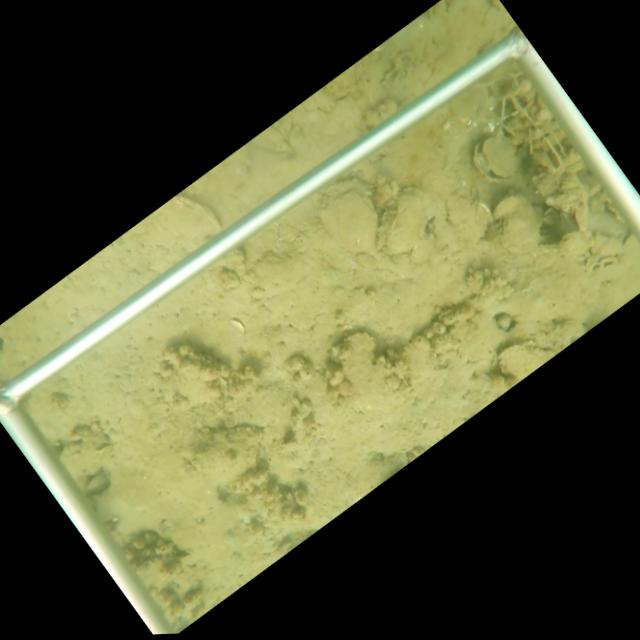Oyster-Closed: (492, 192, 544, 255), (172, 193, 224, 234)
Oyster-Indeterminate: (333, 328, 416, 417), (316, 170, 388, 257), (384, 180, 447, 255), (499, 339, 561, 380)
Oyster-Open: (468, 133, 522, 185)
